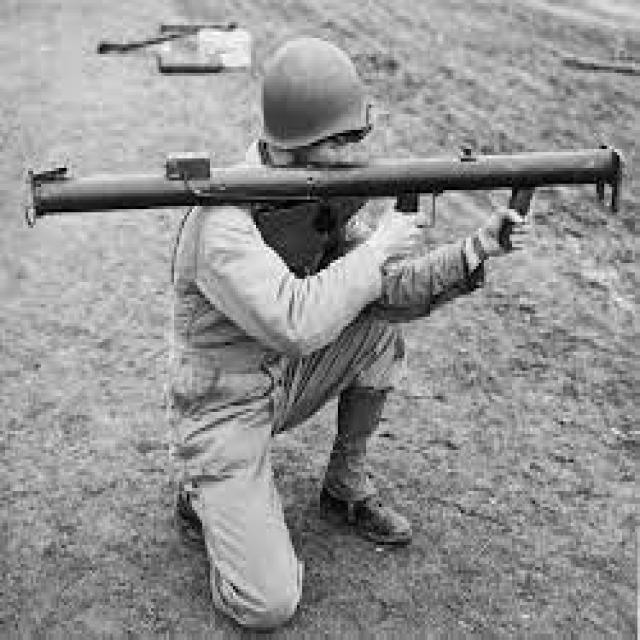bazooka: (13, 125, 633, 247)
